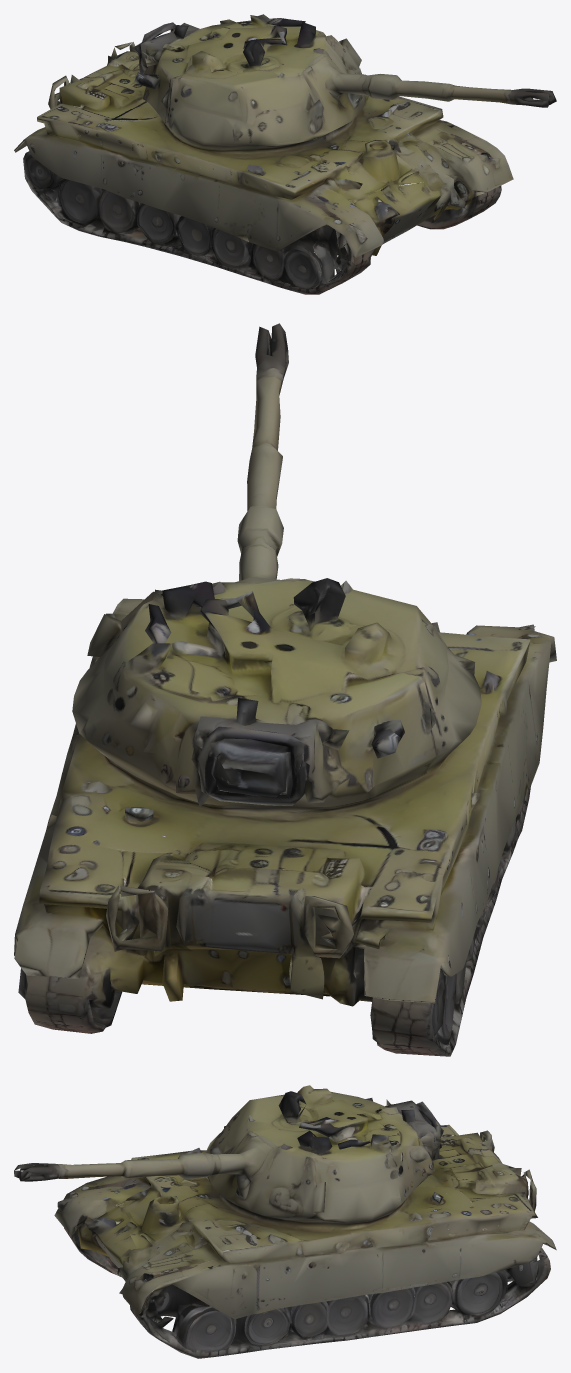
File: tank.glb
3 renders of one model, top to bottom at view 1: azimuth 30°, elevation 25°; view 2: azimuth 150°, elevation 25°; view 3: azimuth 270°, elevation 25°, orthographic. The views are drawn at different scales.
Visible parts, largest first — view 1: body, turret; view 2: body, turret; view 3: body, turret.
Boxes of the visible parts, x1,y1,x2,y2 form: body: (14, 42, 513, 294); turret: (133, 14, 556, 155); body: (14, 589, 556, 1056); turret: (72, 323, 481, 807); body: (54, 1124, 556, 1358); turret: (14, 1085, 443, 1223).
Bounding box in the file's own units: 5.58 × 3.27 × 7.7.
Materials: 1 (1 with a texture image).
